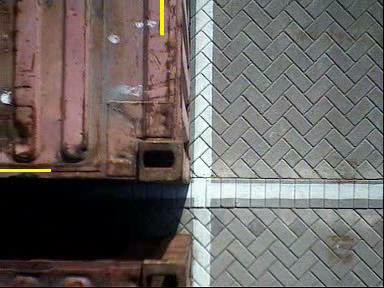groundmarker_2: (193, 52, 227, 92)
